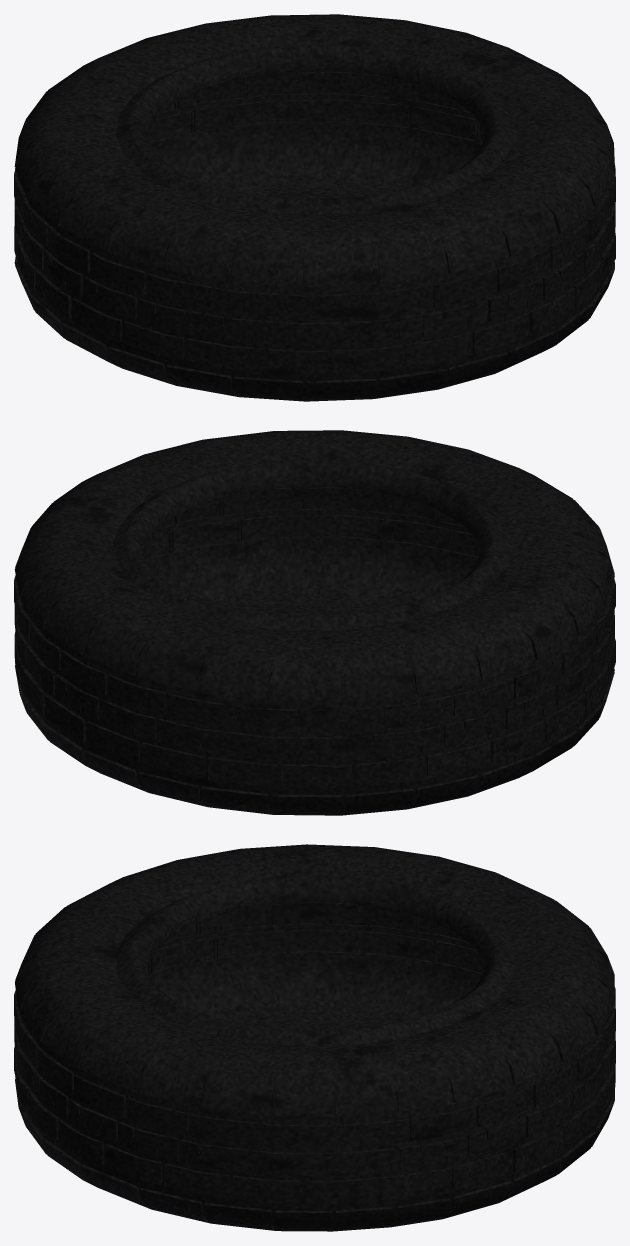
The model's file is SM_Tire_garbage.fbx.
The picture shows the model from 3 angles, top to bottom: view 1: azimuth 30°, elevation 25°; view 2: azimuth 150°, elevation 25°; view 3: azimuth 270°, elevation 25°; orthographic projection.
Parts seen in each view (by area): view 1: SM_Tire_garbage; view 2: SM_Tire_garbage; view 3: SM_Tire_garbage.
Part boxes in pixels (x1,y1,x2,y2): SM_Tire_garbage: [14, 14, 615, 401]; SM_Tire_garbage: [14, 430, 615, 815]; SM_Tire_garbage: [14, 844, 615, 1231].
Size of the model in its own units: 3.11 by 0.971 by 3.11.
Materials: 1 (1 with a texture image).
